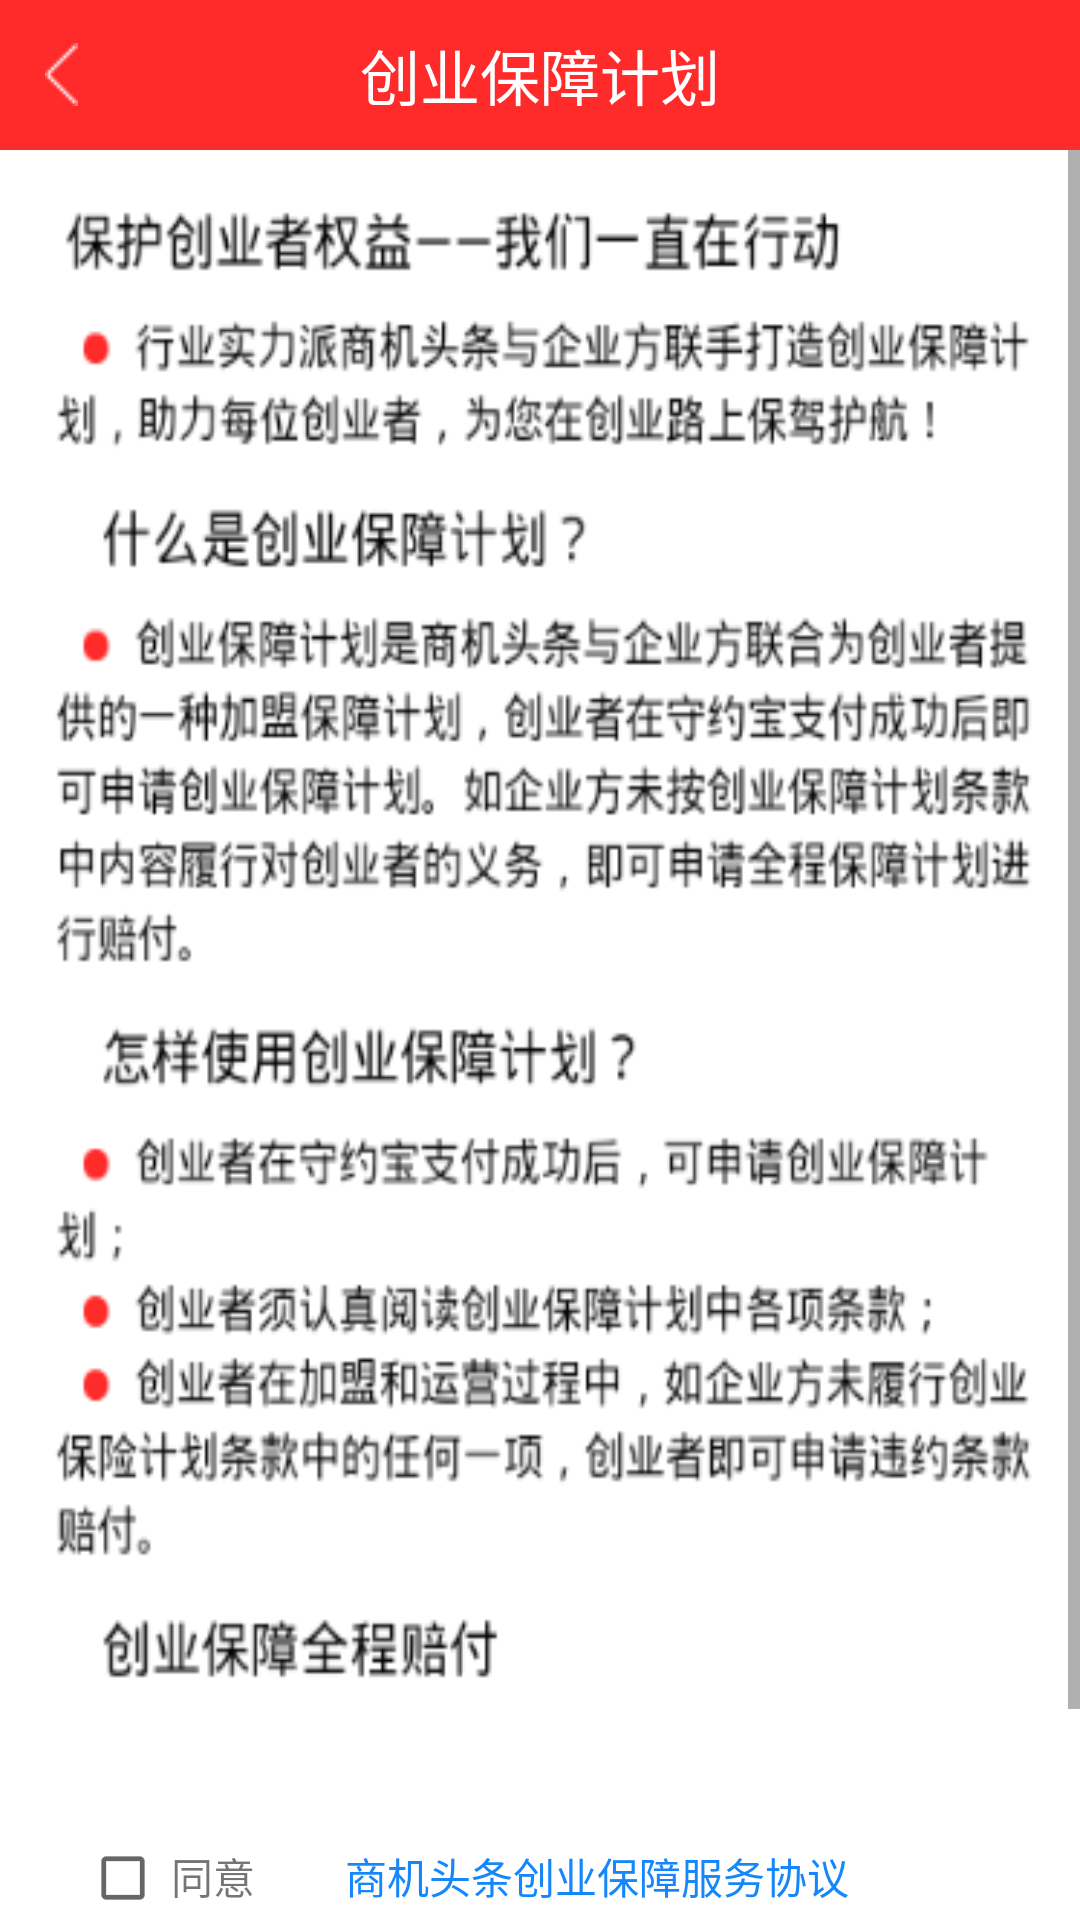

Where icons sit on this 1080 × 1920 app screen, as bbox(x1, y1, x2, y2):
fanhui: bbox(45, 43, 78, 106)
